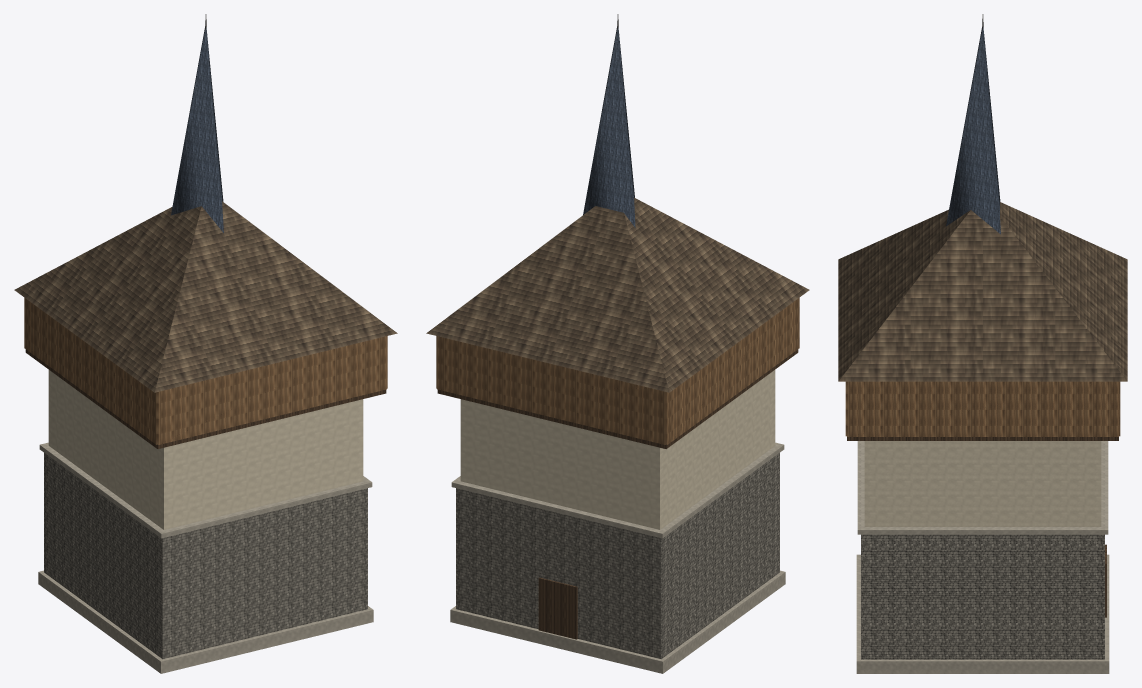
File: Keep_Timber_Spire_1_LOD2.gltf
3 renders of one model, left to right at view 1: azimuth 30°, elevation 25°; view 2: azimuth 150°, elevation 25°; view 3: azimuth 270°, elevation 25°, orthographic. The views are drawn at different scales.
Visible parts, largest first — view 1: Keep_Timber_Spire_1_LOD2; view 2: Keep_Timber_Spire_1_LOD2; view 3: Keep_Timber_Spire_1_LOD2.
Part boxes in pixels (x1,y1,x2,y2): Keep_Timber_Spire_1_LOD2: (14, 14, 397, 673); Keep_Timber_Spire_1_LOD2: (426, 14, 809, 673); Keep_Timber_Spire_1_LOD2: (838, 14, 1127, 673).
Size of the model in its own units: 16.6 by 38.4 by 16.6.
8 materials, 8 textured.
